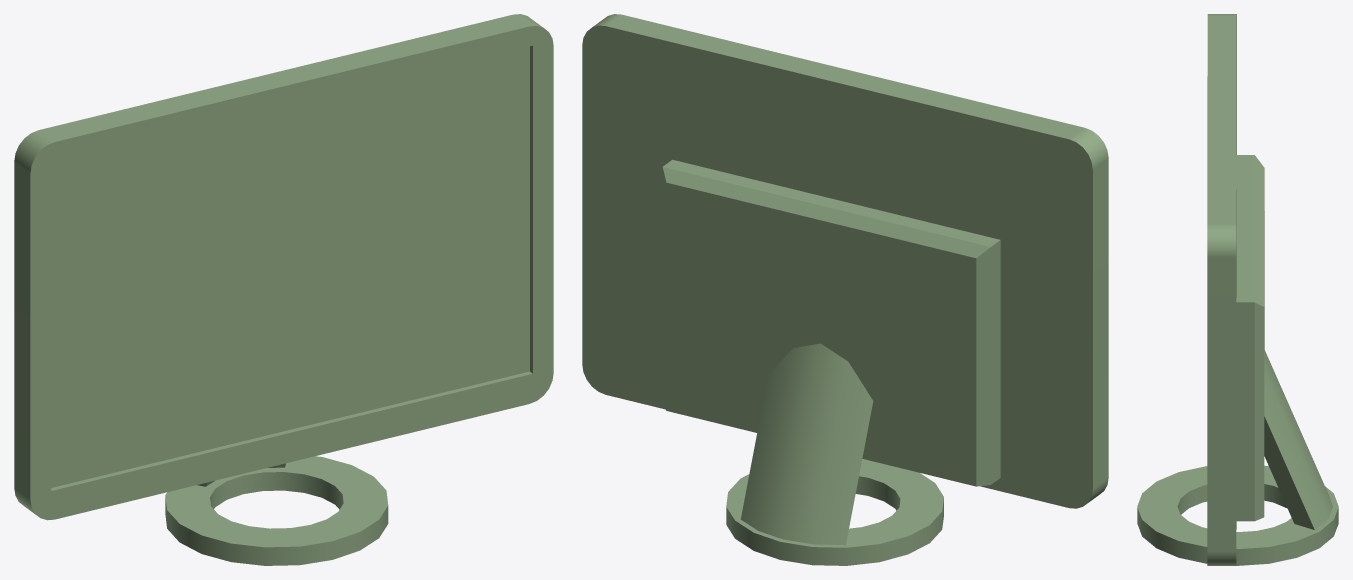
The model's file is Monitor_PC.fbx.
The picture shows the model from 3 angles, left to right: view 1: azimuth 30°, elevation 25°; view 2: azimuth 150°, elevation 25°; view 3: azimuth 270°, elevation 25°; orthographic projection. The views are drawn at different scales.
Parts seen in each view (by area): view 1: Monitor_PC; view 2: Monitor_PC; view 3: Monitor_PC.
Part boxes in pixels (x1,y1,x2,y2): Monitor_PC: (14, 14, 553, 565); Monitor_PC: (582, 14, 1108, 565); Monitor_PC: (1137, 14, 1338, 565).
Bounding box in the file's own units: 68.65 × 56.12 × 25.49.
